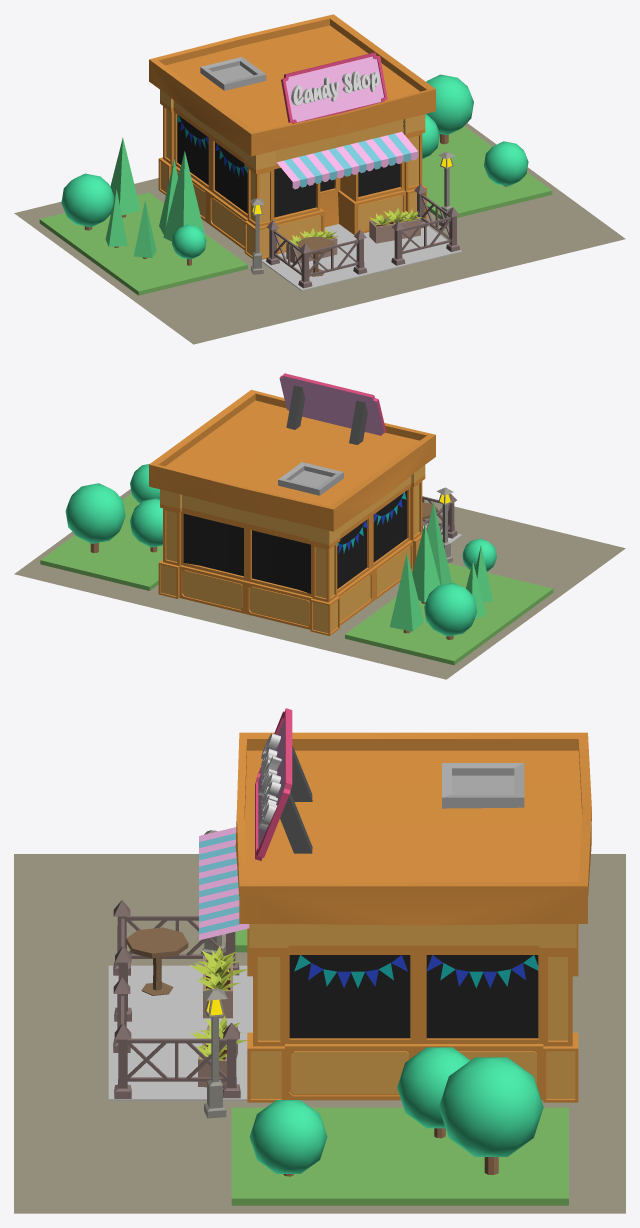
File: playerPark1.gltf
3 views of the same model, one above another, from view 1: azimuth 30°, elevation 25°; view 2: azimuth 150°, elevation 25°; view 3: azimuth 270°, elevation 25° (orthographic). The views are drawn at different scales.
Parts seen in each view (by area): view 1: Cube, Plane, Cube.003, Icosphere, Cube.004, Plane.001, Plane.002, Pine Tree, Pine Tree.001, Cube.002, Text.001, Pine Tree.002 (+9 smaller); view 2: Cube, Plane, Cube.003, Icosphere, Plane.001, Pine Tree.002, Cube.002, Pine Tree.003, Cube.001, Pine Tree.001, Pine Tree, Cube.013; view 3: Cube, Plane, Cube.003, Icosphere, Cube.004, Plane.002, Cube.002, Cube.007, Plane.001, Plane.003, Cube.014, Cube.013 (+6 smaller).
Part boxes in pixels (x1,y1,x2,y2): Cube: (149,14,435,259); Plane: (14,123,625,344); Cube.003: (39,126,552,295); Icosphere: (61,74,528,265); Cube.004: (262,224,462,290); Plane.001: (281,52,387,123); Plane.002: (277,132,418,189); Pine Tree: (163,151,205,241); Pine Tree.001: (105,189,156,258); Cube.002: (200,57,266,90); Text.001: (291,71,379,105); Pine Tree.002: (110,137,140,217); Cube: (149,389,435,635); Plane: (14,489,625,679); Cube.003: (40,493,553,665); Icosphere: (65,464,496,639); Plane.001: (279,373,385,435); Pine Tree.002: (390,553,423,633); Cube.002: (278,462,343,495); Pine Tree.003: (412,524,440,603); Cube.001: (286,385,367,444); Pine Tree.001: (466,545,492,619); Pine Tree: (427,502,452,585); Cube.013: (436,487,453,562); Cube: (235,732,591,1102); Plane: (14,854,625,1213); Cube.003: (231,929,568,1205); Icosphere: (249,1047,543,1176); Cube.004: (108,965,310,1100); Plane.002: (199,827,249,940); Cube.002: (442,763,524,808); Cube.007: (127,1022,240,1098); Plane.001: (255,708,292,860); Plane.003: (294,955,538,988); Cube.014: (126,927,188,995); Cube.013: (201,830,227,1118).
Bounding box in the file's own units: 2 × 0.765 × 1.44.
